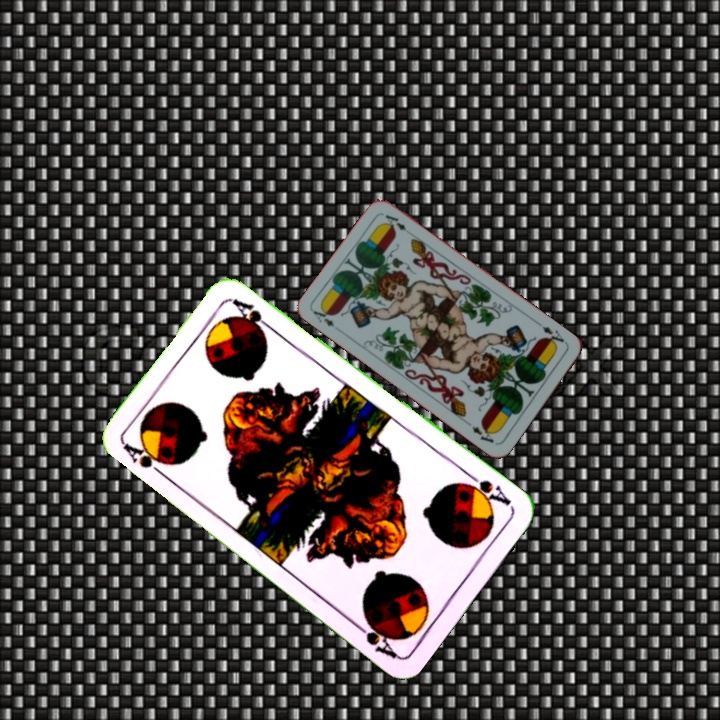EA: (538, 322, 570, 350), (309, 303, 337, 330)
SA: (457, 469, 514, 509), (119, 439, 171, 482)
